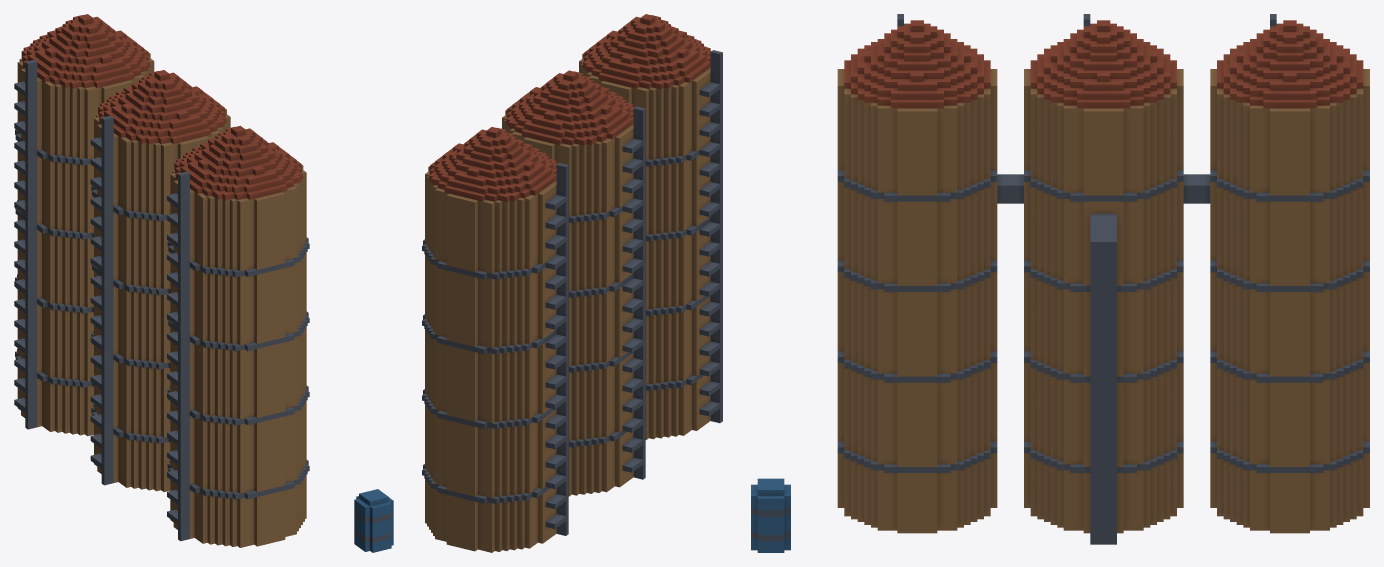
Rendered from factory_e1_l2.glb.
3 renders of one model, left to right at view 1: azimuth 30°, elevation 25°; view 2: azimuth 150°, elevation 25°; view 3: azimuth 270°, elevation 25°, orthographic. The views are drawn at different scales.
Parts seen in each view (by area): view 1: Base; view 2: Base; view 3: Base.
Boxes of the visible parts, box(x1,y1,x2,y2) form: Base: box(14, 14, 393, 552); Base: box(422, 14, 722, 552); Base: box(751, 14, 1369, 552).
Bounding box in the file's own units: 3.6 × 7.9 × 9.3.
